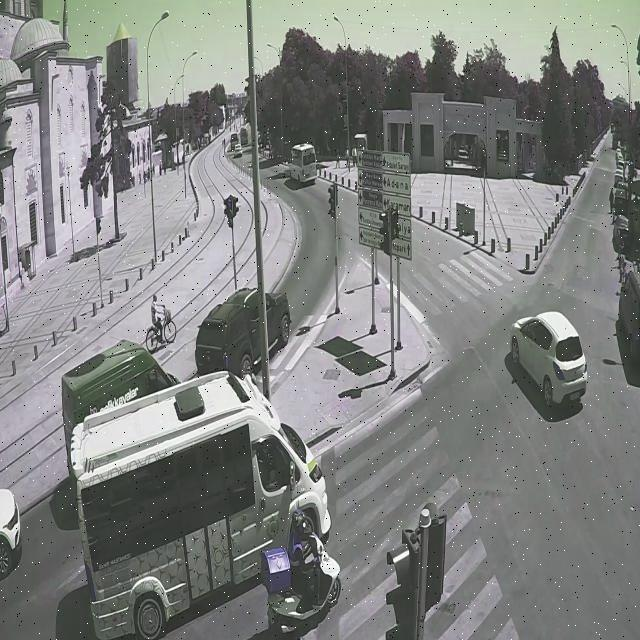Car: (493, 295, 595, 427), (199, 280, 295, 379), (0, 475, 27, 579), (609, 215, 634, 252), (612, 182, 634, 210), (612, 160, 630, 174), (232, 142, 243, 164), (614, 151, 629, 161)
Cycle: (257, 517, 338, 634), (140, 288, 177, 348)
Van: (74, 375, 346, 640), (56, 339, 179, 426), (613, 262, 640, 362), (278, 144, 327, 190), (240, 125, 250, 147), (228, 130, 240, 146)
